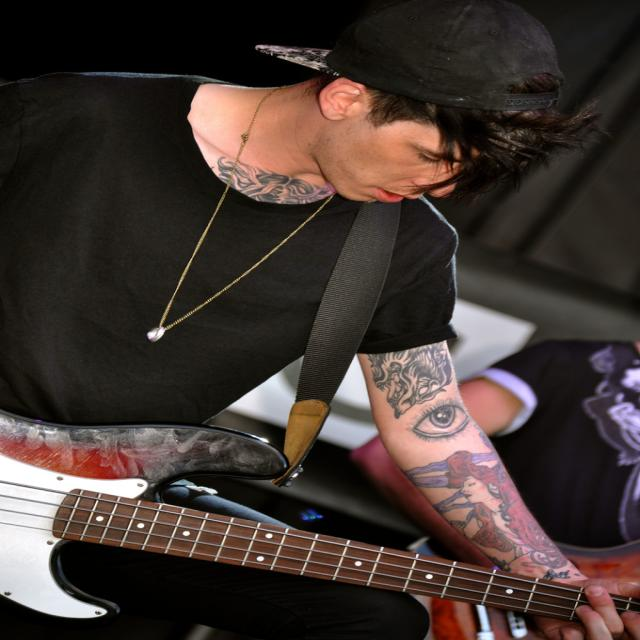Hat: (254, 0, 562, 106)
